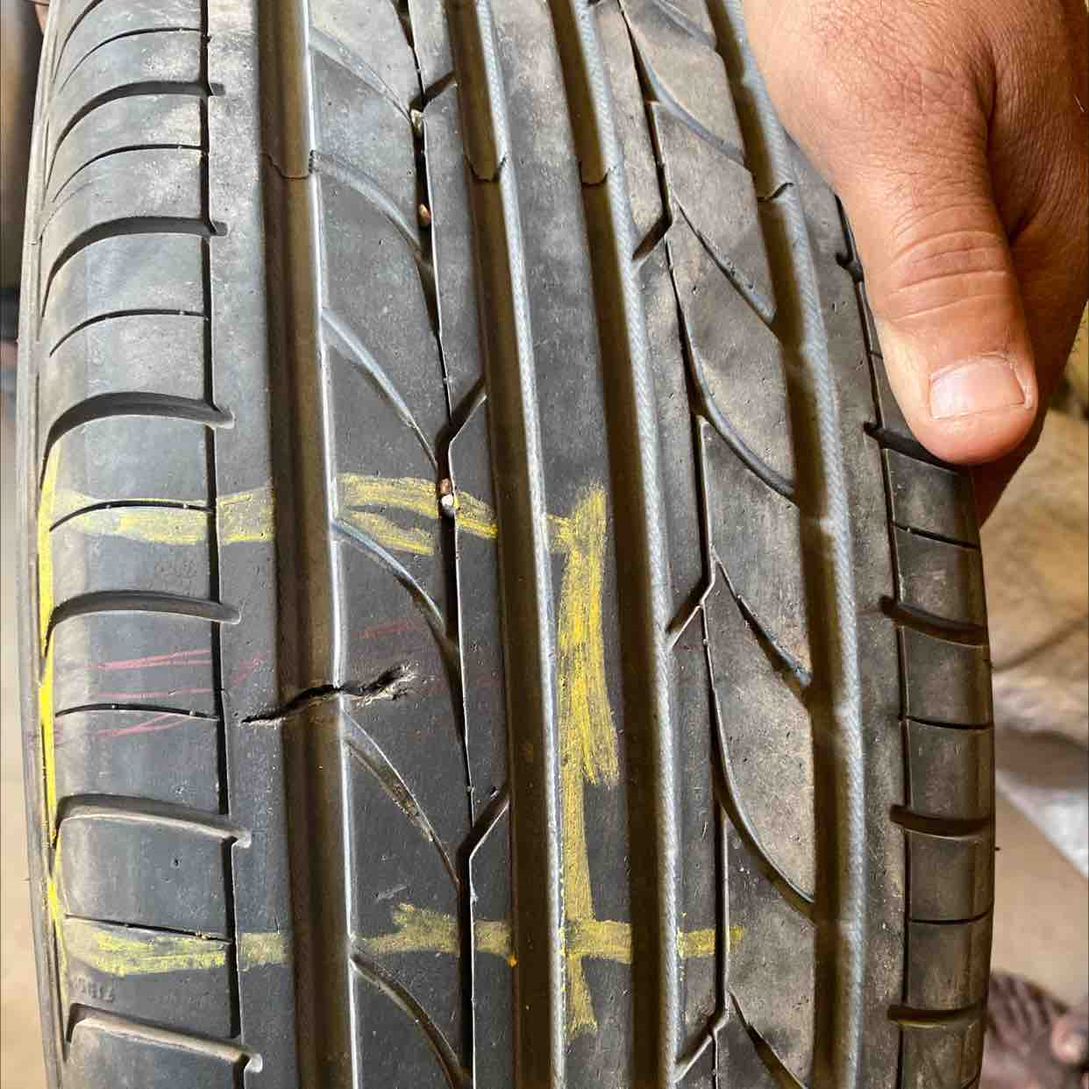tr: (227, 661, 421, 729)
